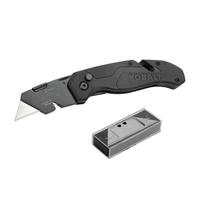knife: (12, 50, 188, 126)
